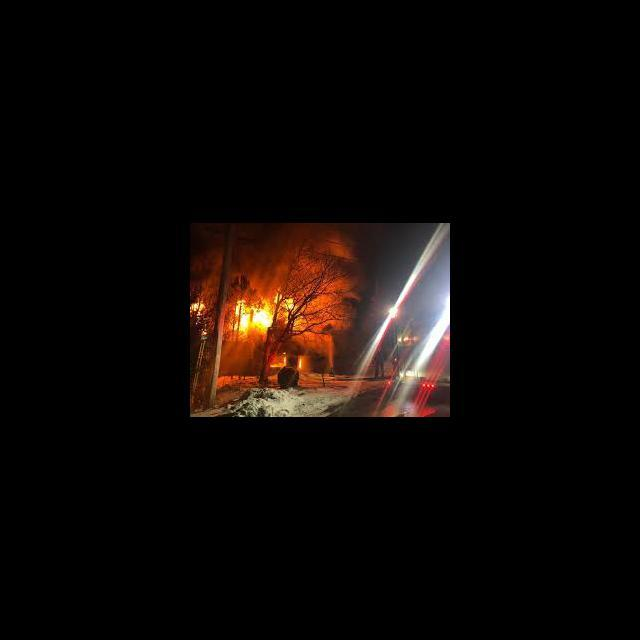Fire: (232, 297, 272, 341), (275, 290, 303, 330), (190, 301, 205, 318), (280, 353, 288, 367), (202, 328, 208, 336), (298, 357, 302, 368)
